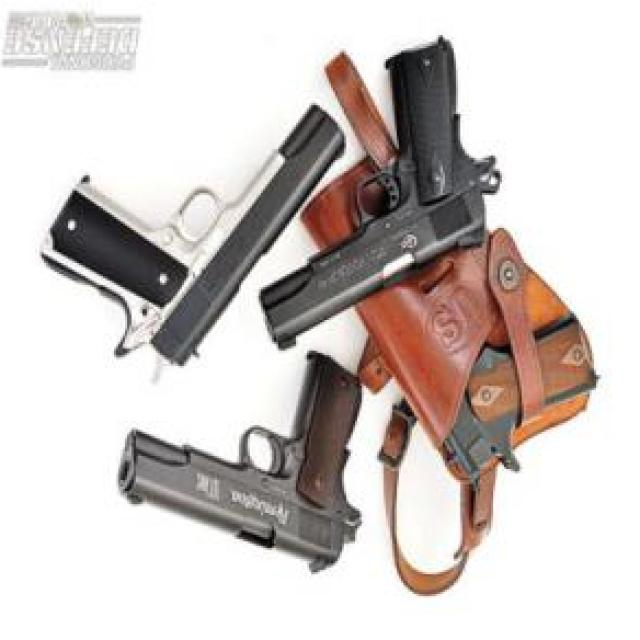pistol: (19, 95, 346, 397), (254, 42, 502, 362), (108, 354, 388, 596)
